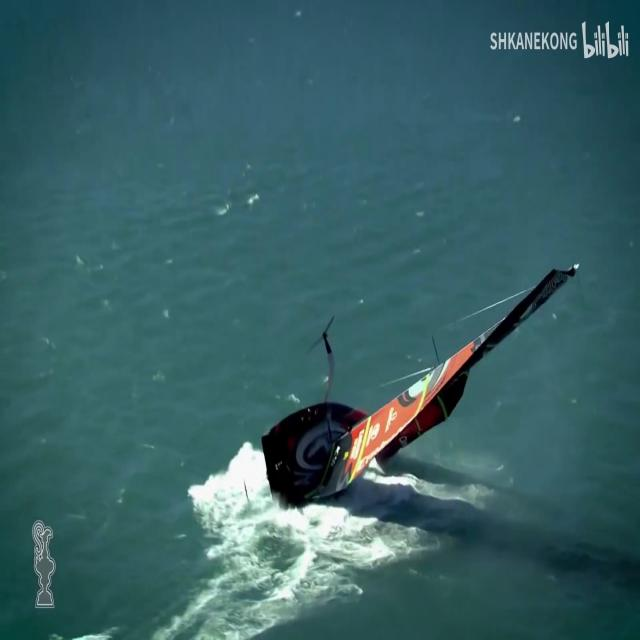sailboat: (261, 259, 585, 506)
